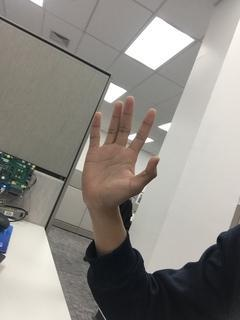hand: (81, 95, 162, 211)
